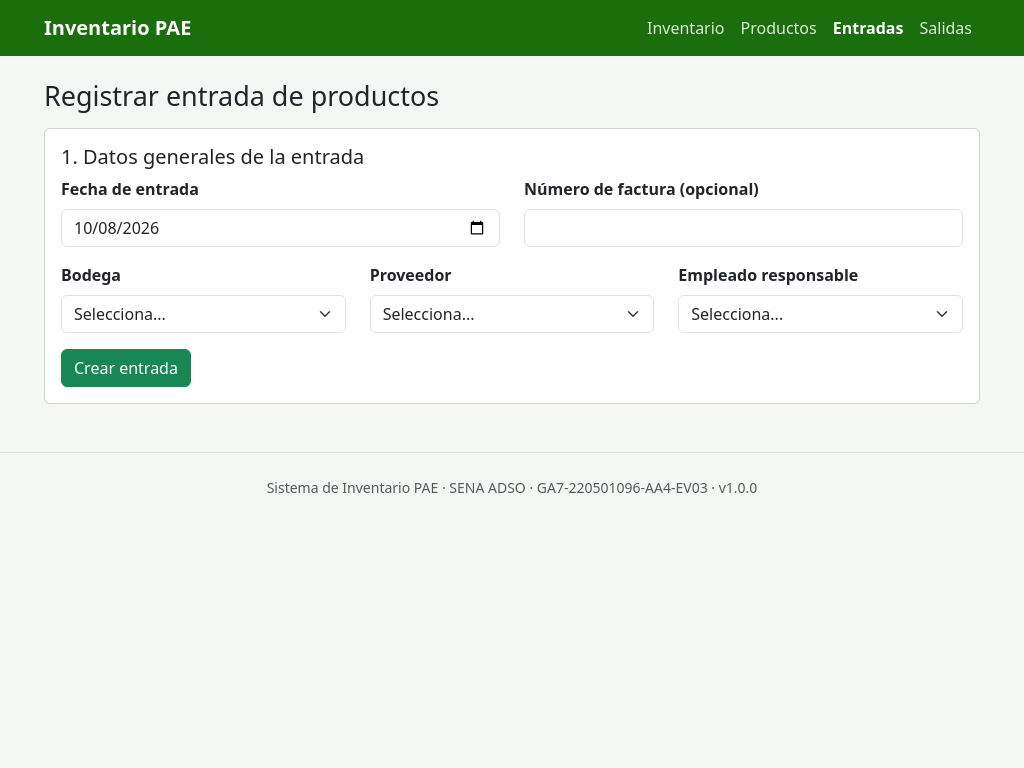
Test case: Sistema de Inventario PAE (front-end) › HU-03: registra una entrada y le agrega un detalle
Select "Bodega Central Montería" in the dropdown labelled "Bodega" at (203, 314), box [61, 295, 346, 333]
Select "Distribuidora La Sabana" in the dropdown labelled "Proveedor" at (512, 314), box [370, 295, 654, 333]
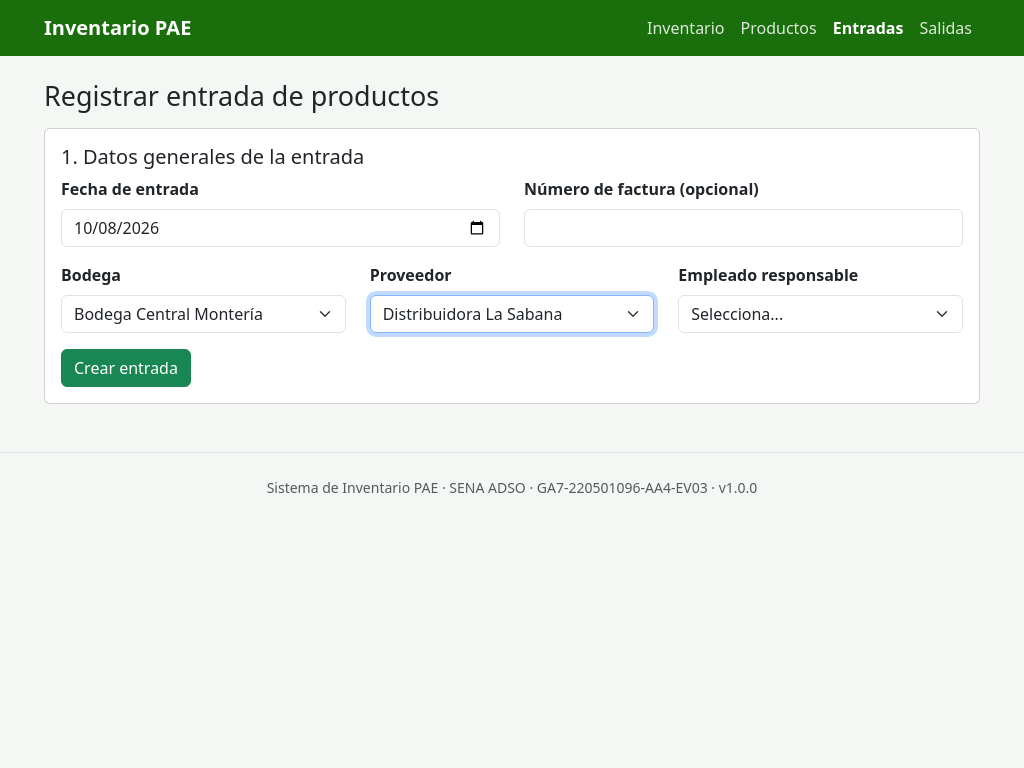
Select "Laura Martínez (Bodeguera)" in the dropdown labelled "Empleado responsable" at (821, 314), box [678, 295, 963, 333]
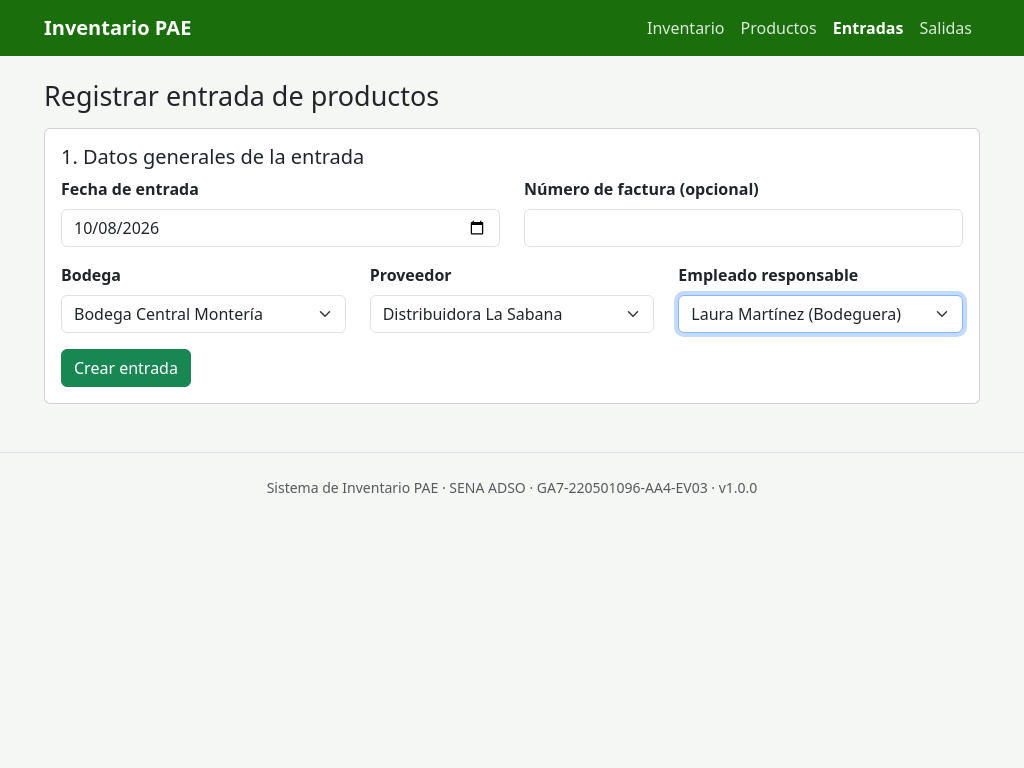
Click the button "Crear entrada".
click(126, 368)  # box [61, 349, 191, 387]
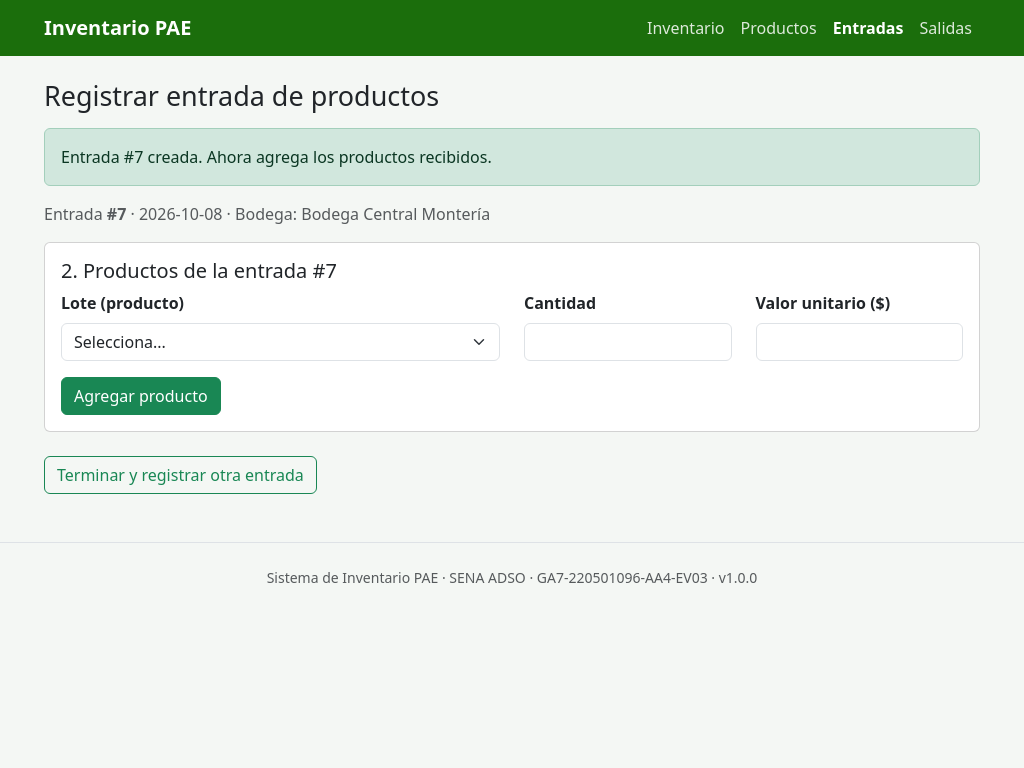
Check: the heading "2. Productos de la entrada #7" is shown, box [61, 257, 337, 284]
Select "Arroz · Lote #1 · vence 2027-01-01" in the dropdown labelled "Lote (producto)" at (280, 342), box [61, 323, 500, 361]
Type "10" into the number field labelled "Cantidad".
click(628, 342); type("10")  # box [524, 323, 732, 361]
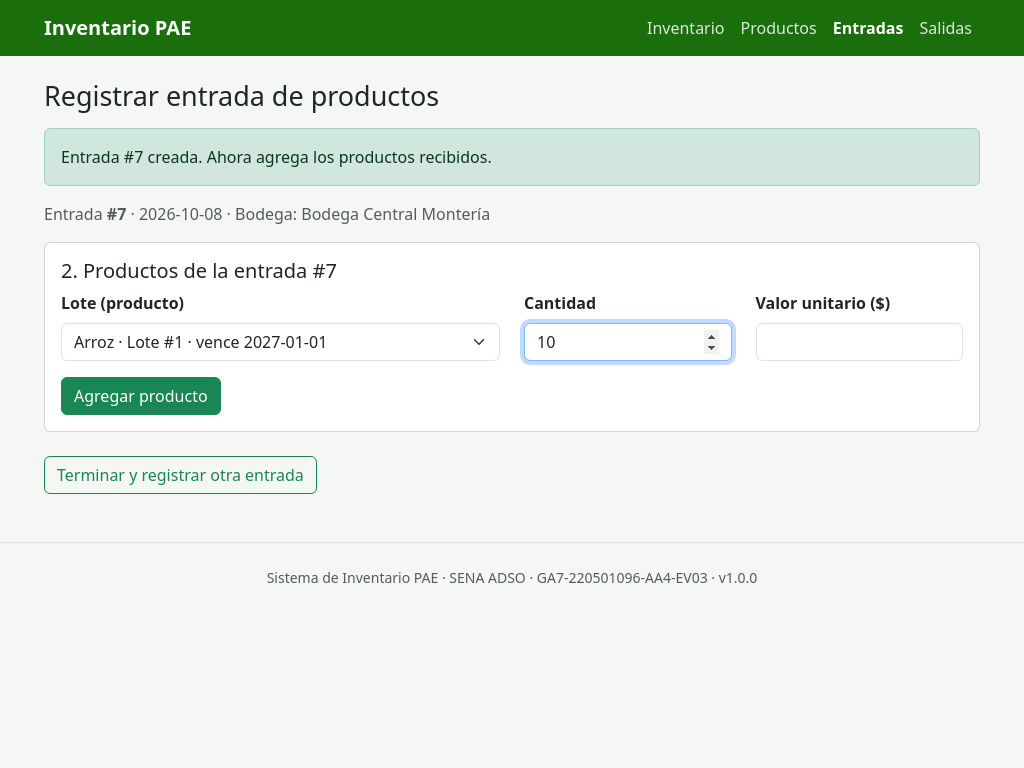
Type "2500" into the number field labelled "Valor unitario ($)".
click(859, 342); type("2500")  # box [756, 323, 963, 361]
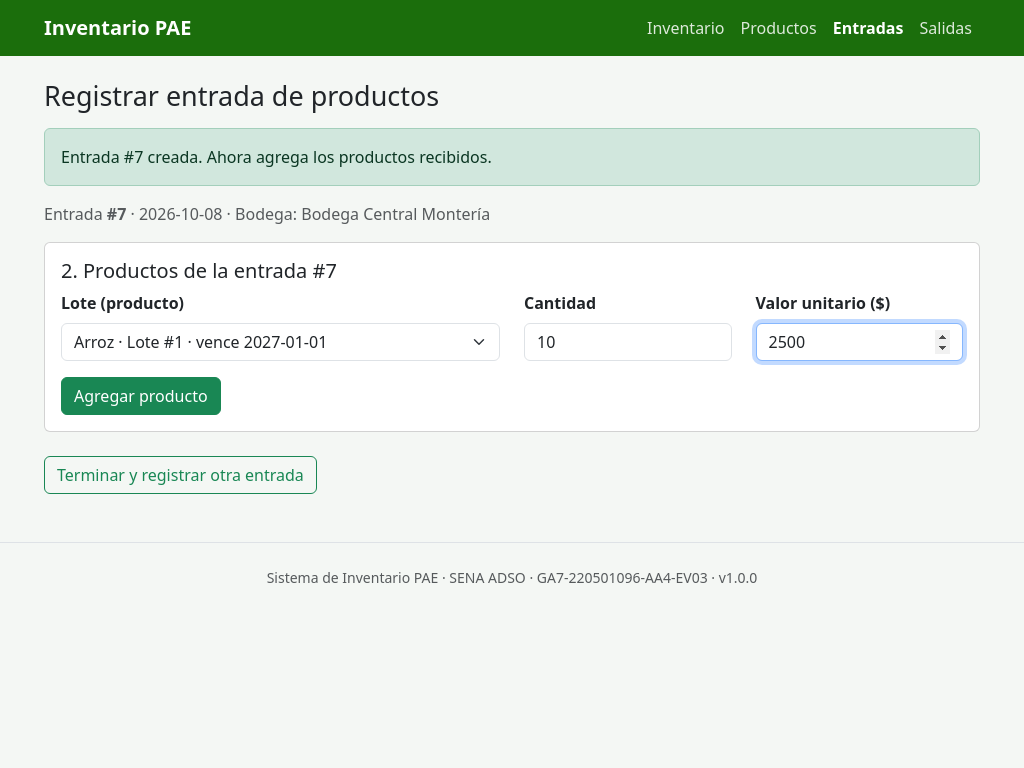
Click the button "Agregar producto".
click(141, 396)  # box [61, 377, 221, 415]
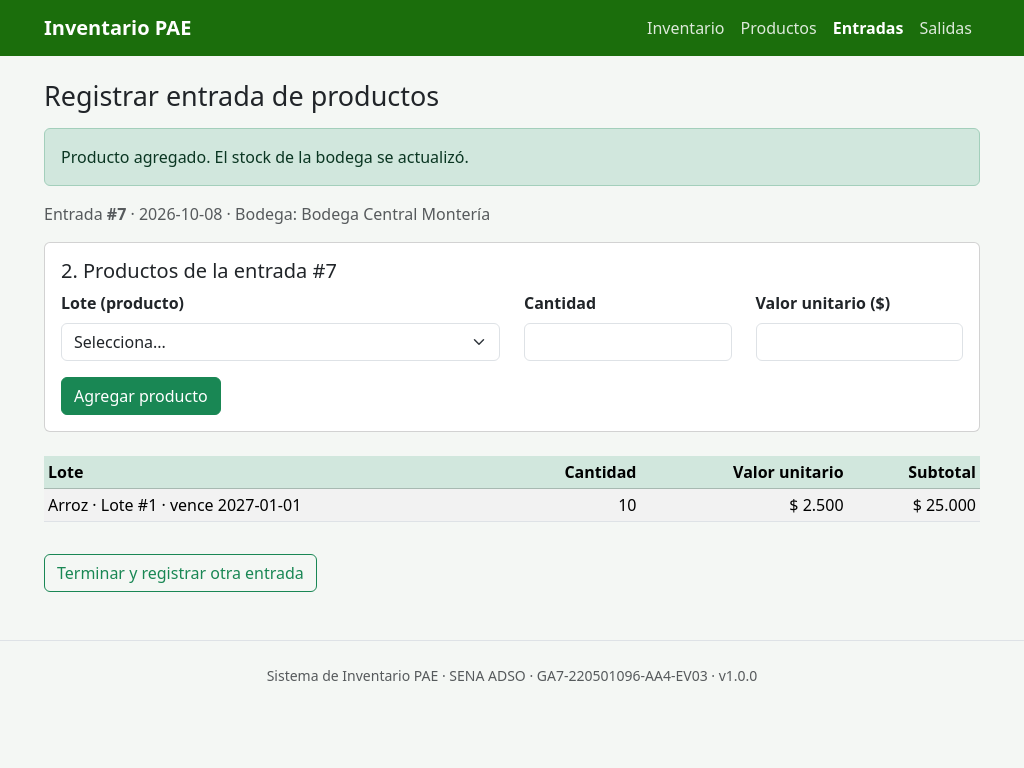
Check: the text "$ 25.000" is shown, box [848, 489, 980, 522]
